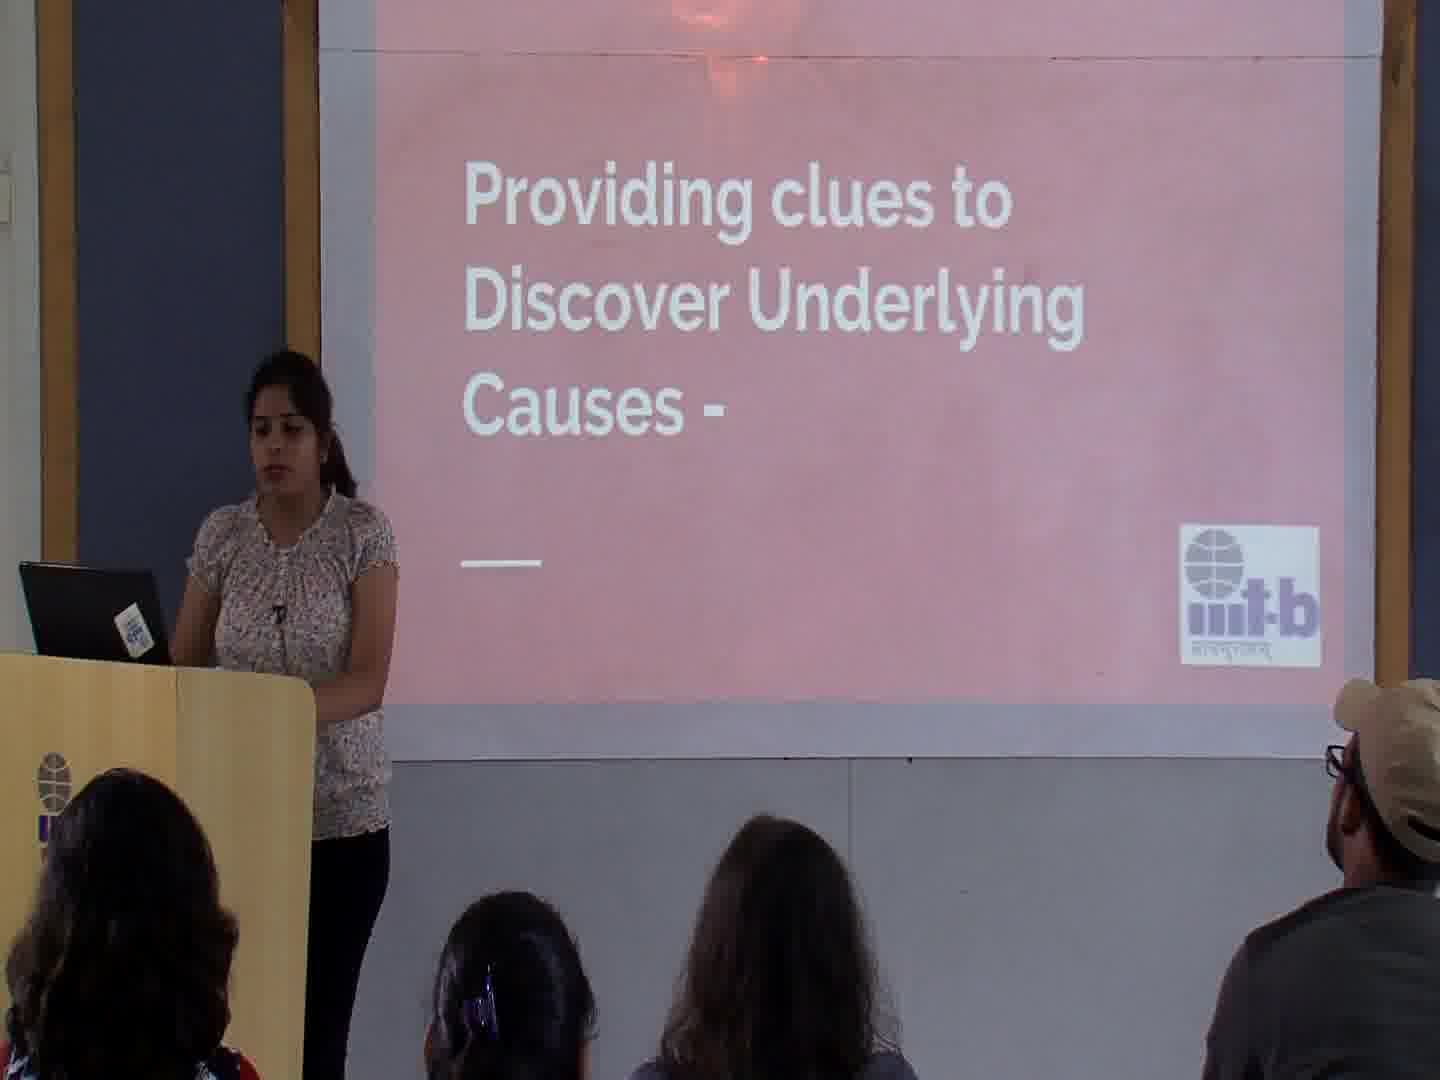slide: (375, 1, 1344, 708)
